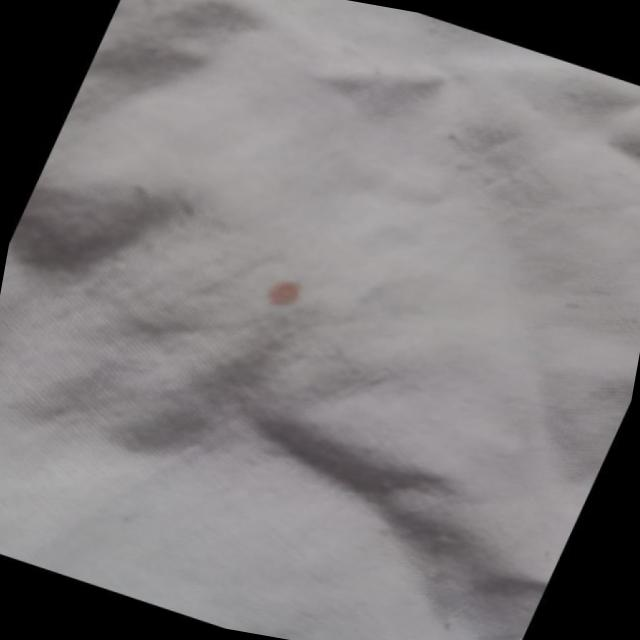stain: (238, 254, 326, 328)
